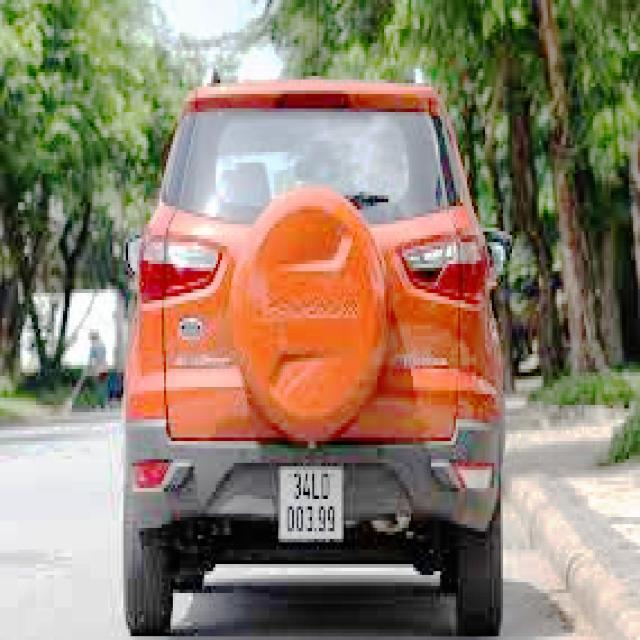license_plate: (280, 468, 343, 541)
